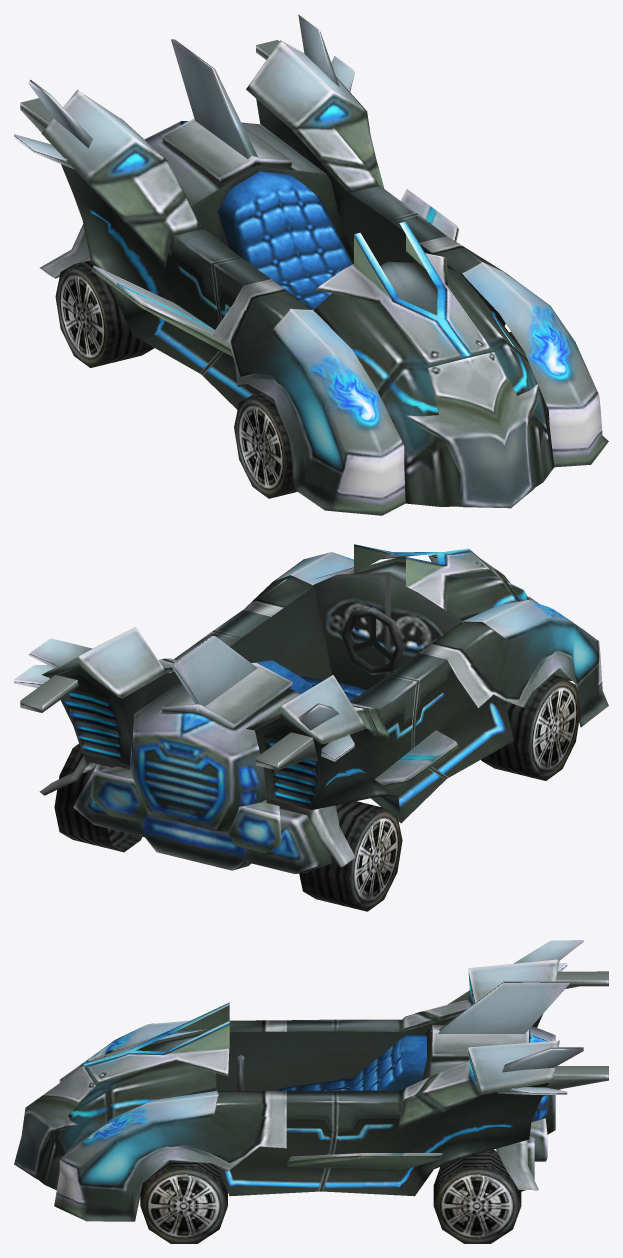
The model's file is npc_two.fbx.
The picture shows the model from 3 angles, top to bottom: view 1: azimuth 30°, elevation 25°; view 2: azimuth 150°, elevation 25°; view 3: azimuth 270°, elevation 25°; orthographic projection. The views are drawn at different scales.
Parts seen in each view (by area): view 1: npc_two; view 2: npc_two; view 3: npc_two.
Part boxes in pixels (left/top/right/bottom): npc_two: left=14, top=14, right=608, bottom=515; npc_two: left=14, top=544, right=608, bottom=911; npc_two: left=14, top=940, right=608, bottom=1243.
Size of the model in its own units: 18.39 by 13.5 by 35.97.
